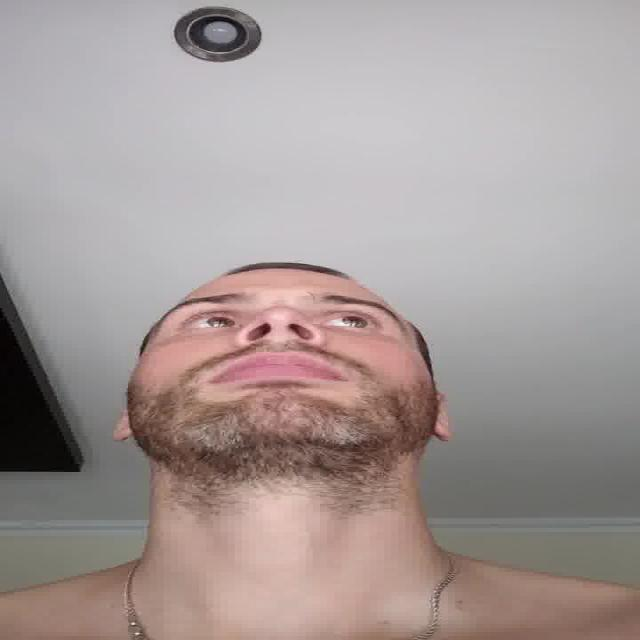earlobe: (430, 420, 454, 444), (115, 422, 138, 444)
eye: (317, 314, 376, 331), (183, 315, 240, 328)
nose: (240, 333, 322, 358)
wholeear: (427, 390, 456, 443)
